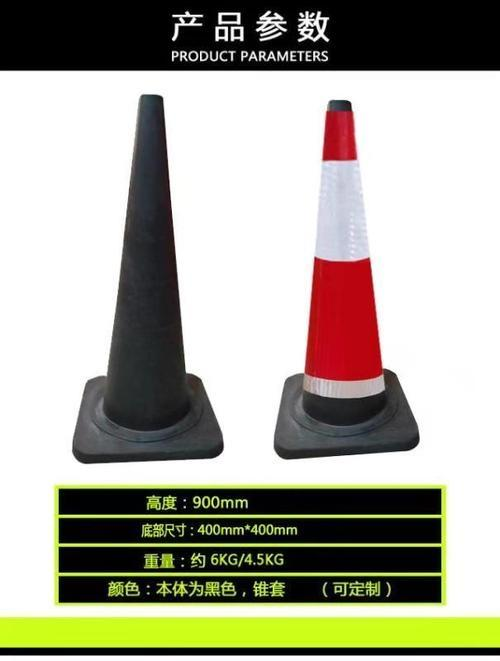cone_barrel: (81, 98, 208, 461), (286, 104, 401, 449)
